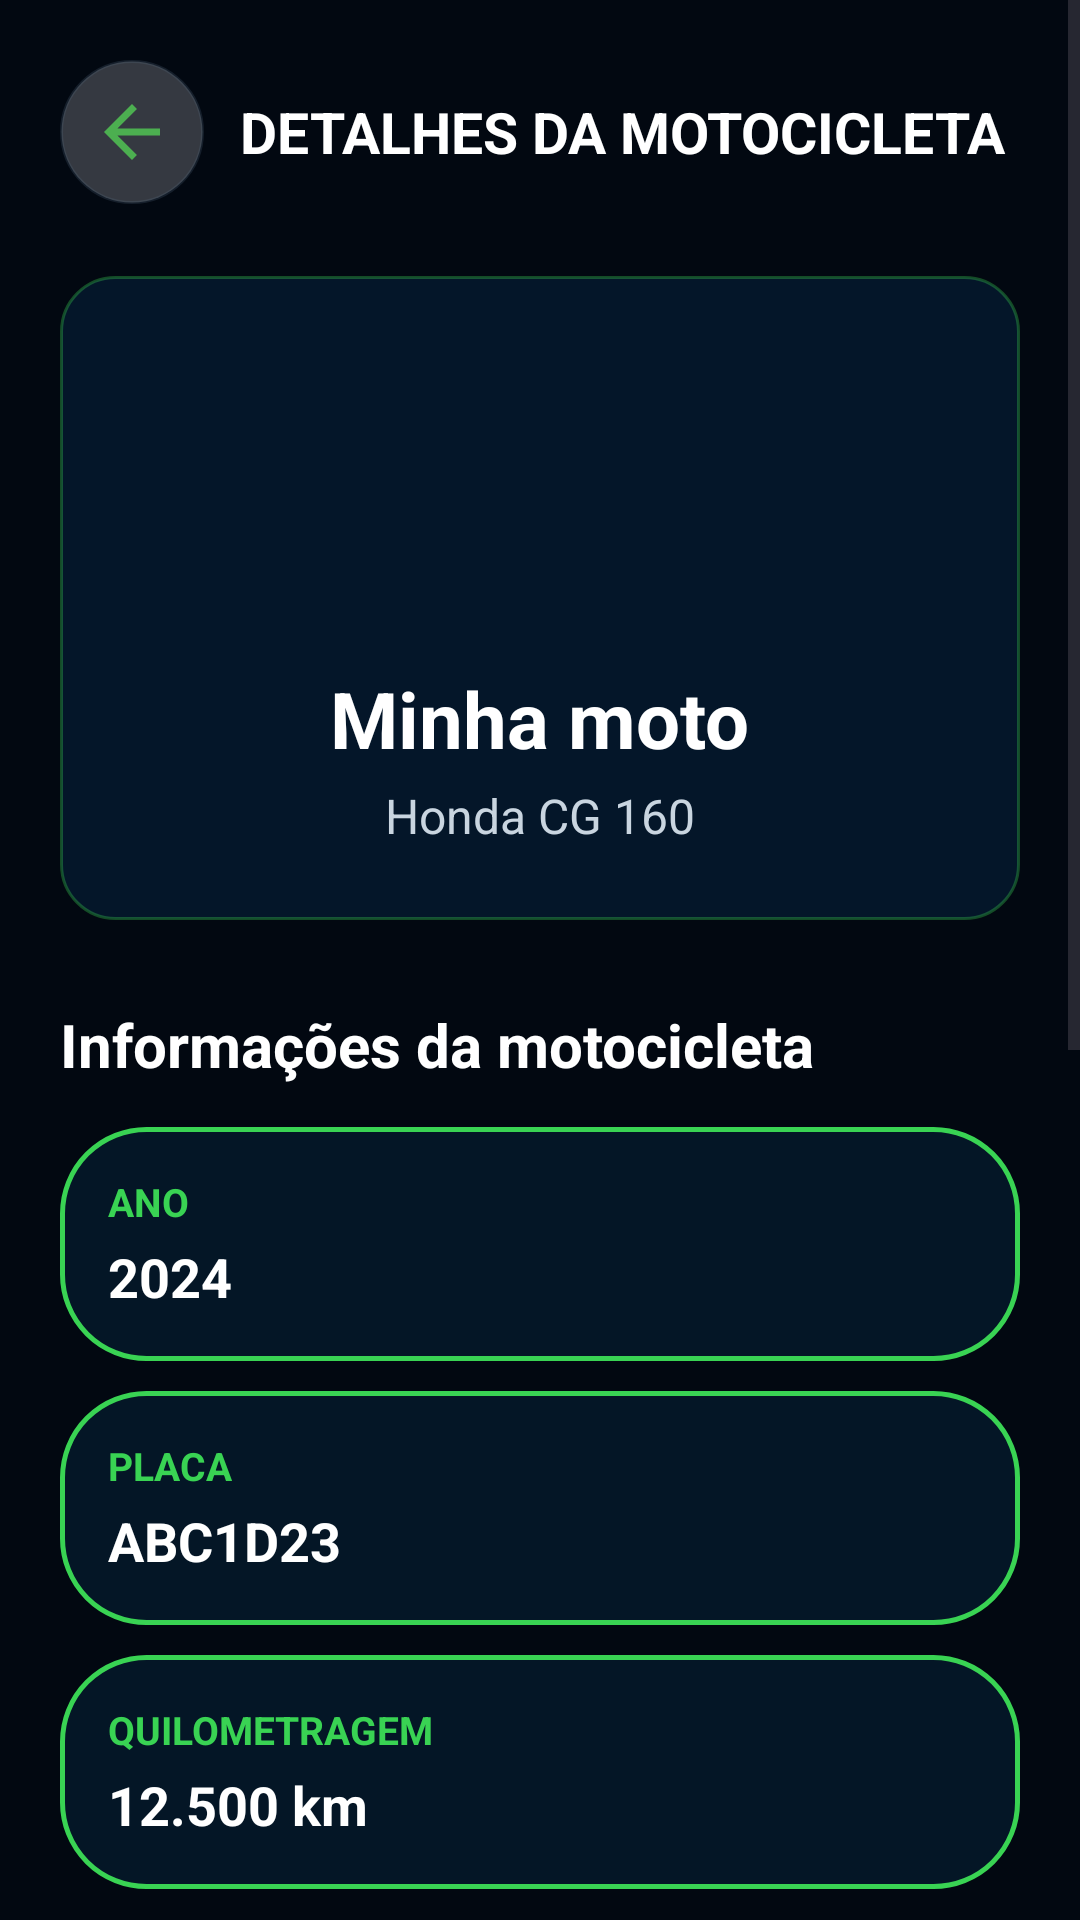

Where to tap for icons on this 1080*1920 app screen, as [x,y]:
Voltar: [131,132]
